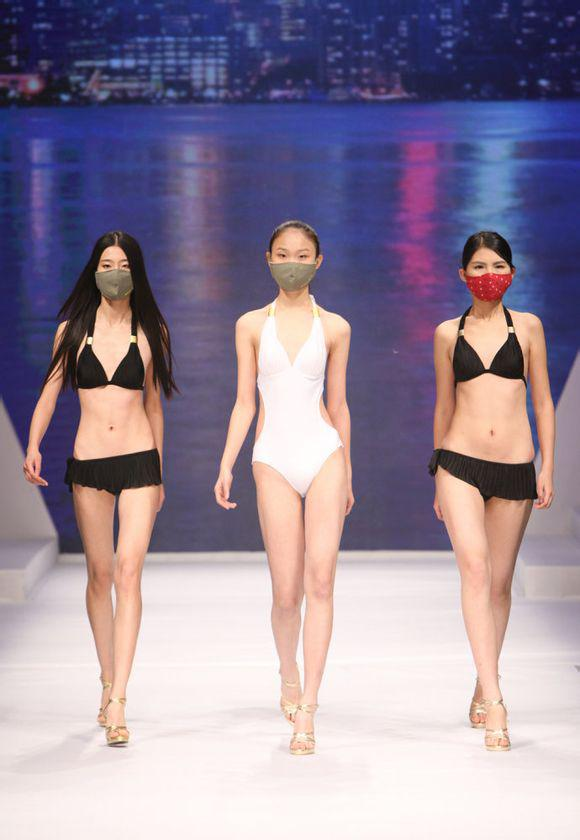OK: (94, 254, 142, 302), (465, 254, 513, 300), (274, 243, 318, 290)
